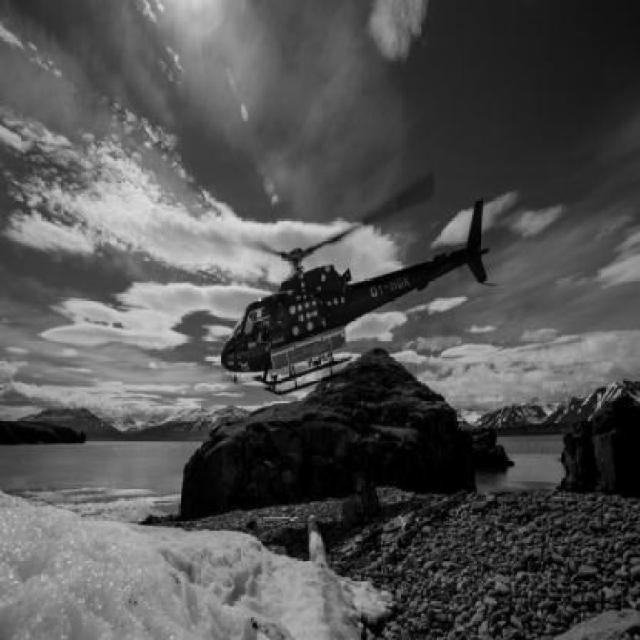helikopter: (214, 167, 493, 415)
